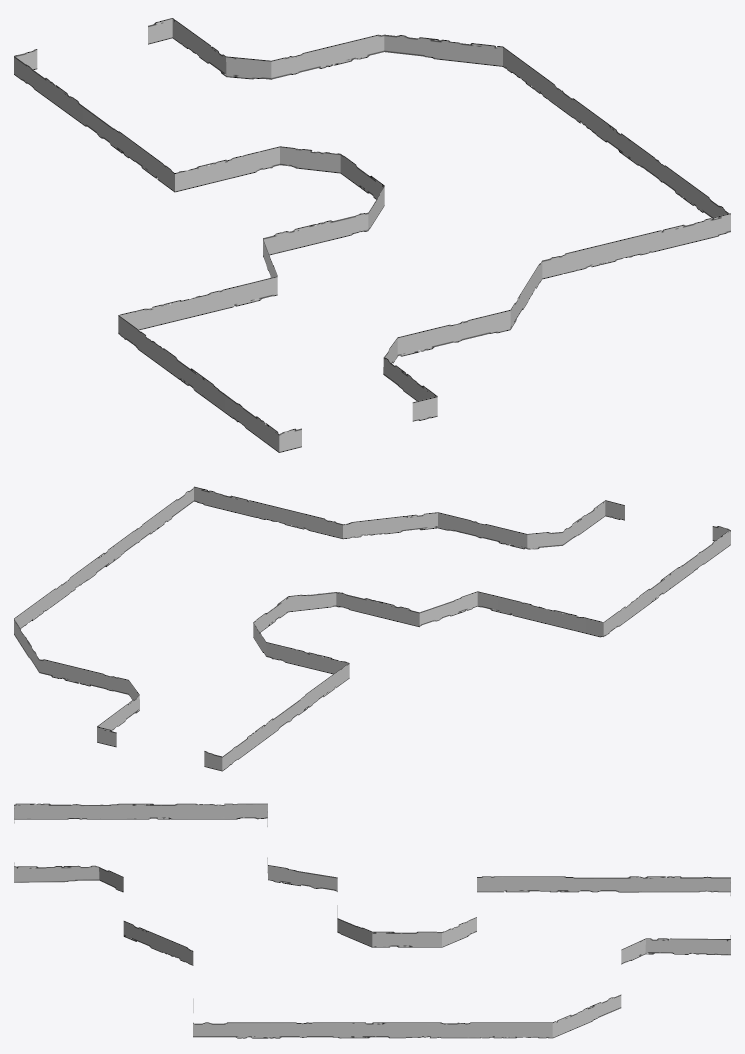
The model's file is Strip_For_Blue 1.fbx.
The picture shows the model from 3 angles, top to bottom: view 1: azimuth 30°, elevation 25°; view 2: azimuth 150°, elevation 25°; view 3: azimuth 270°, elevation 25°; orthographic projection. The views are drawn at different scales.
Parts seen in each view (by area): view 1: strip; view 2: strip; view 3: strip.
Part boxes in pixels (x1,y1,x2,y2): strip: (14, 18, 730, 452); strip: (14, 486, 730, 771); strip: (14, 803, 730, 1038).
Size of the model in its own units: 32.98 by 1.38 by 45.87.
1 material, 1 textured.
